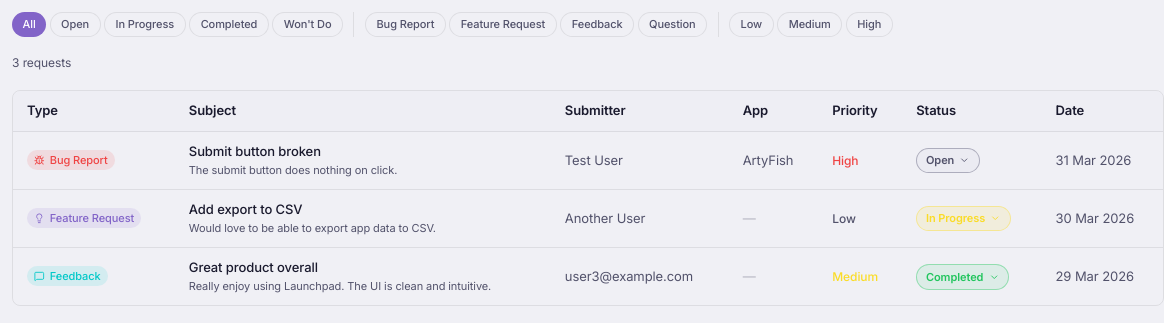
it: SupportAdminClient › Filtering › filters by status — in_progress only
Click the button with test id "filter-status-in_progress" at point(145, 24), box [104,12,186,36]
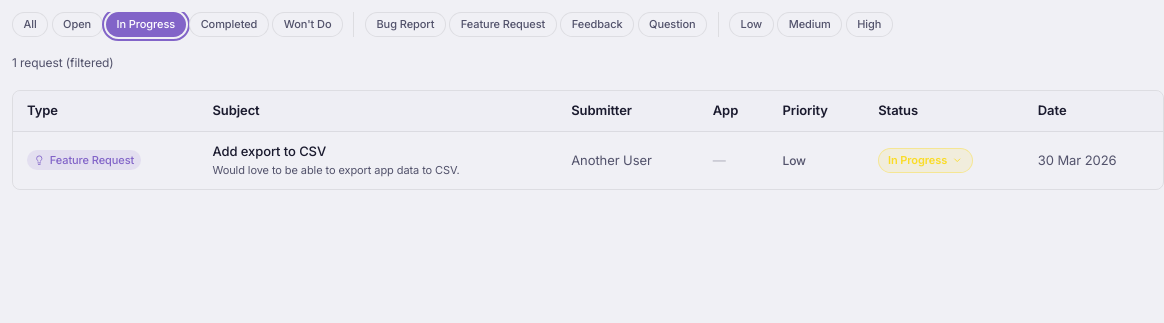
Expected: the text "Add export to CSV" is shown, [212,142,326,158]
Expected: the text "Submit button broken" is gone
